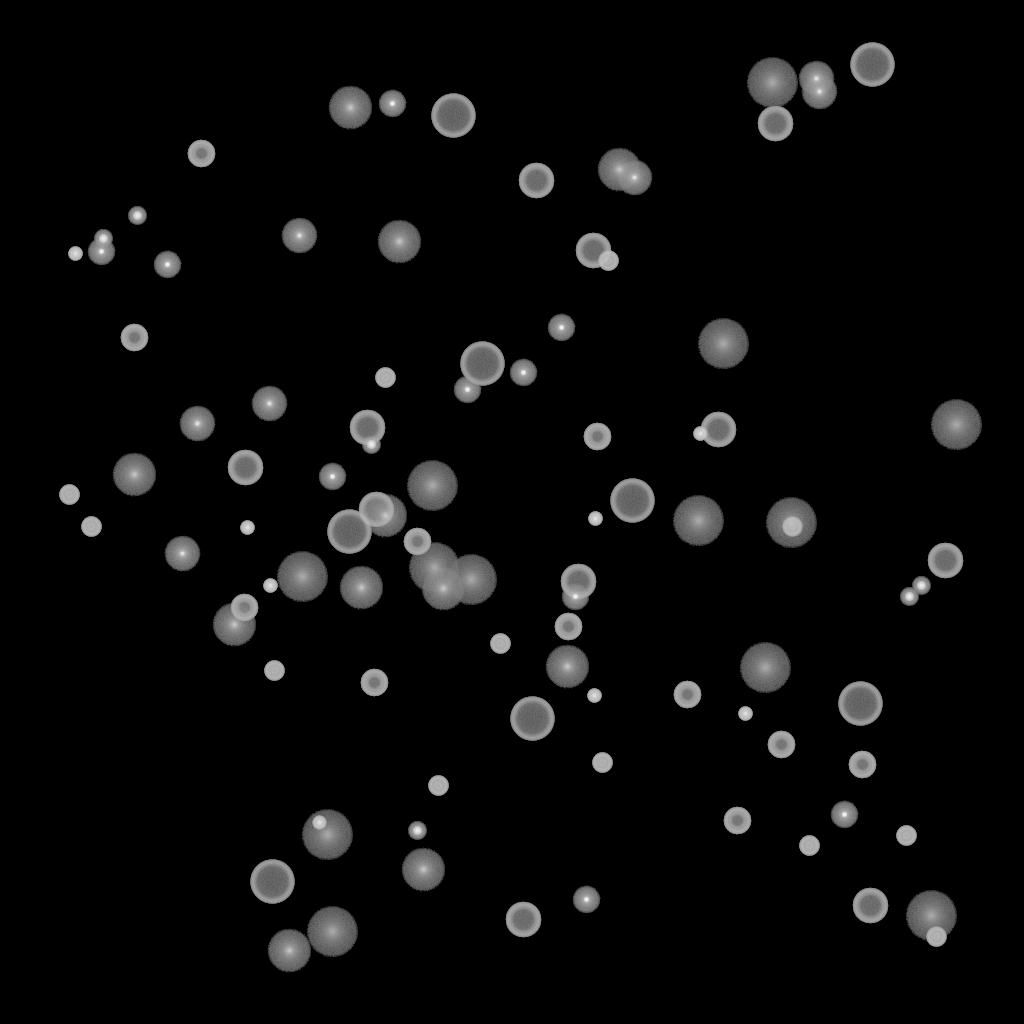depth:-10: (509, 359, 537, 387), (87, 238, 115, 266), (378, 90, 406, 118), (830, 801, 858, 829), (572, 886, 600, 914), (561, 583, 589, 611), (453, 376, 481, 404), (547, 314, 575, 342), (318, 463, 346, 491), (153, 251, 181, 279)
depth:-20: (900, 588, 918, 606), (128, 207, 146, 225), (362, 436, 380, 454), (912, 577, 930, 595), (94, 230, 112, 248), (408, 822, 426, 840)
depth:-30: (68, 247, 82, 261), (263, 579, 277, 593), (588, 512, 602, 526), (240, 521, 254, 535), (693, 427, 707, 441), (587, 689, 601, 703), (312, 816, 326, 830), (738, 707, 752, 721)
depth:-40: (598, 251, 618, 271), (926, 927, 946, 947), (264, 661, 284, 681), (799, 836, 819, 856), (59, 485, 79, 505), (375, 368, 395, 388), (592, 753, 612, 773), (490, 634, 510, 654), (782, 517, 802, 537), (896, 826, 916, 846), (428, 776, 448, 796), (81, 517, 101, 537)
depth:-50: (583, 423, 611, 451), (230, 594, 258, 622), (403, 528, 431, 556), (767, 731, 795, 759), (120, 324, 148, 352), (848, 751, 876, 779), (554, 613, 582, 641), (723, 807, 751, 835), (187, 140, 215, 168), (673, 681, 701, 709), (360, 669, 388, 697)
depth:-60: (700, 412, 736, 448), (349, 410, 385, 446), (927, 543, 963, 579), (757, 106, 793, 142), (518, 163, 554, 199), (575, 233, 611, 269), (358, 492, 394, 528), (852, 888, 888, 924), (227, 450, 263, 486), (505, 902, 541, 938), (560, 564, 596, 600)
depth:-70: (610, 479, 654, 523), (510, 697, 554, 741), (431, 94, 475, 138), (250, 860, 294, 904), (327, 510, 371, 554), (838, 682, 882, 726), (850, 43, 894, 87), (460, 342, 504, 386)
depth:0: (801, 74, 837, 110), (164, 536, 200, 572), (281, 218, 317, 254), (179, 406, 215, 442), (616, 160, 652, 196), (251, 386, 287, 422), (798, 61, 834, 97)
depth:10: (545, 645, 589, 689), (363, 494, 407, 538), (339, 566, 383, 610), (421, 567, 465, 611), (377, 220, 421, 264), (112, 453, 156, 497), (212, 603, 256, 647), (328, 86, 372, 130), (267, 929, 311, 973), (597, 148, 641, 192), (401, 848, 445, 892)
depth:20: (406, 461, 458, 511), (739, 643, 791, 693), (276, 552, 328, 602), (746, 58, 798, 108), (672, 496, 724, 546), (301, 810, 353, 860), (930, 400, 982, 450), (408, 543, 460, 593), (306, 907, 358, 957), (765, 498, 817, 548), (697, 319, 749, 369), (905, 891, 957, 941), (445, 555, 497, 605)
